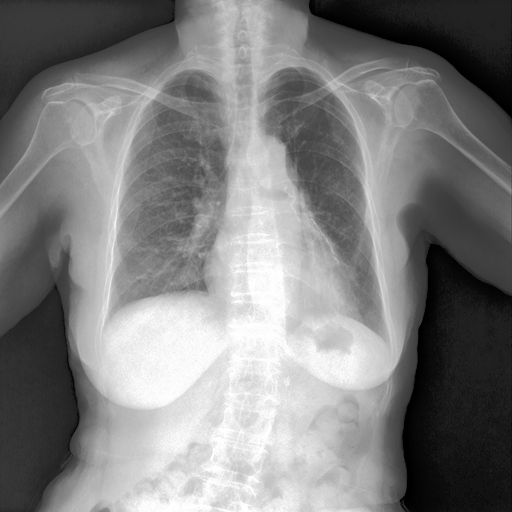Nodule/Mass: (202, 252, 363, 310)
Other lesion: (252, 101, 370, 168), (272, 179, 343, 267), (275, 180, 304, 225)
Pneumothorax: (120, 231, 197, 259)
